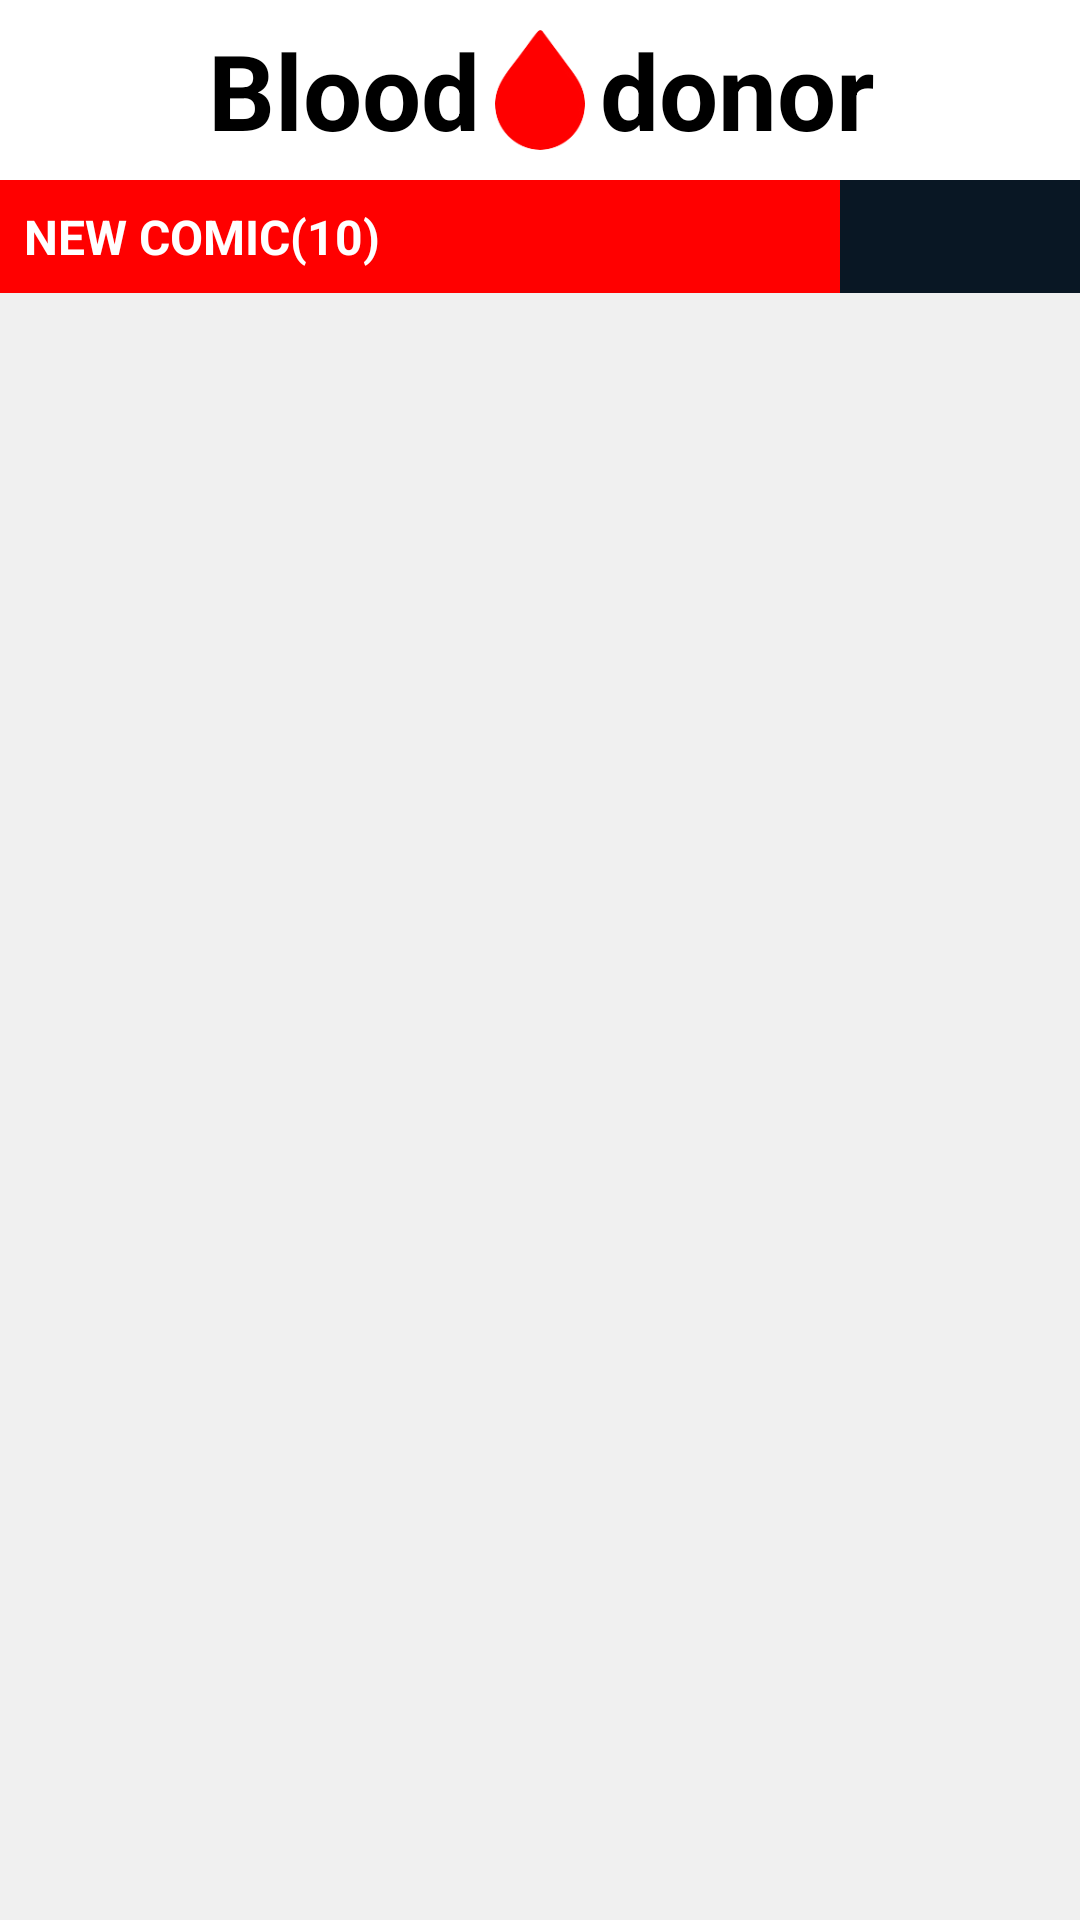

Named icons in this screenshot (1080 × 1920) and their centers, [x,y]:
loggooo: [540,90]
